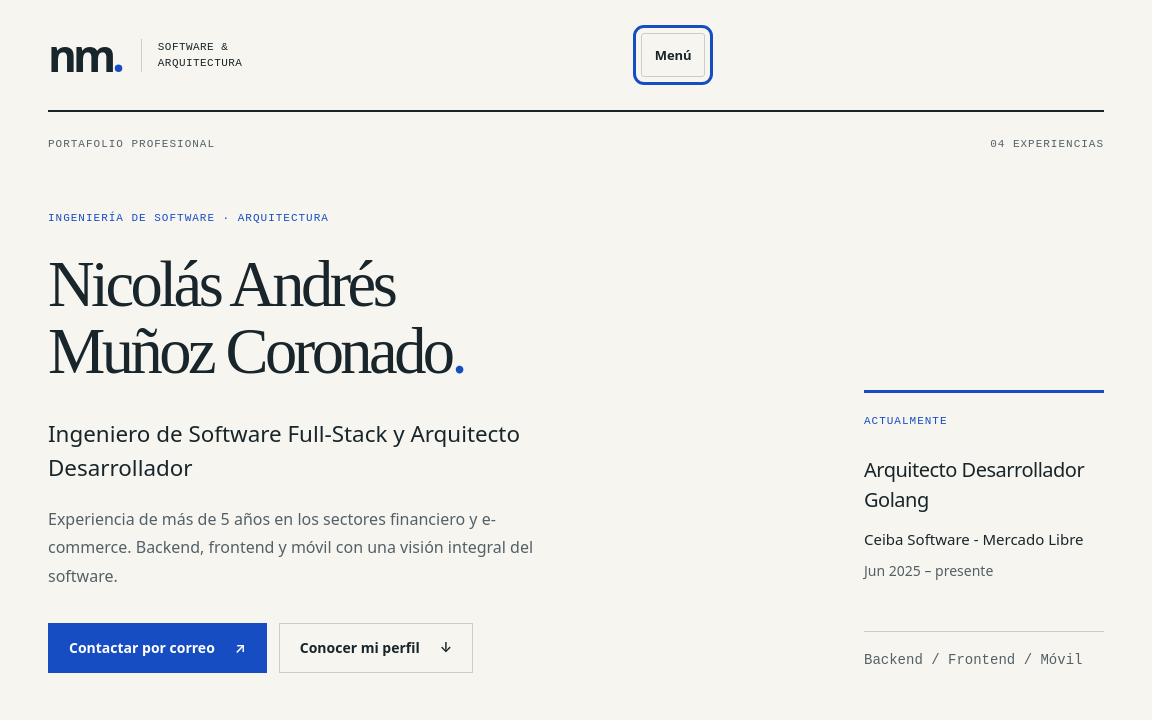
Test: Mobile navigation disclosure › collapses after hydration and toggles all links without losing button focus
Click the button "Menú" at (673, 55), box top-left (641, 33), bottom-right (705, 77)
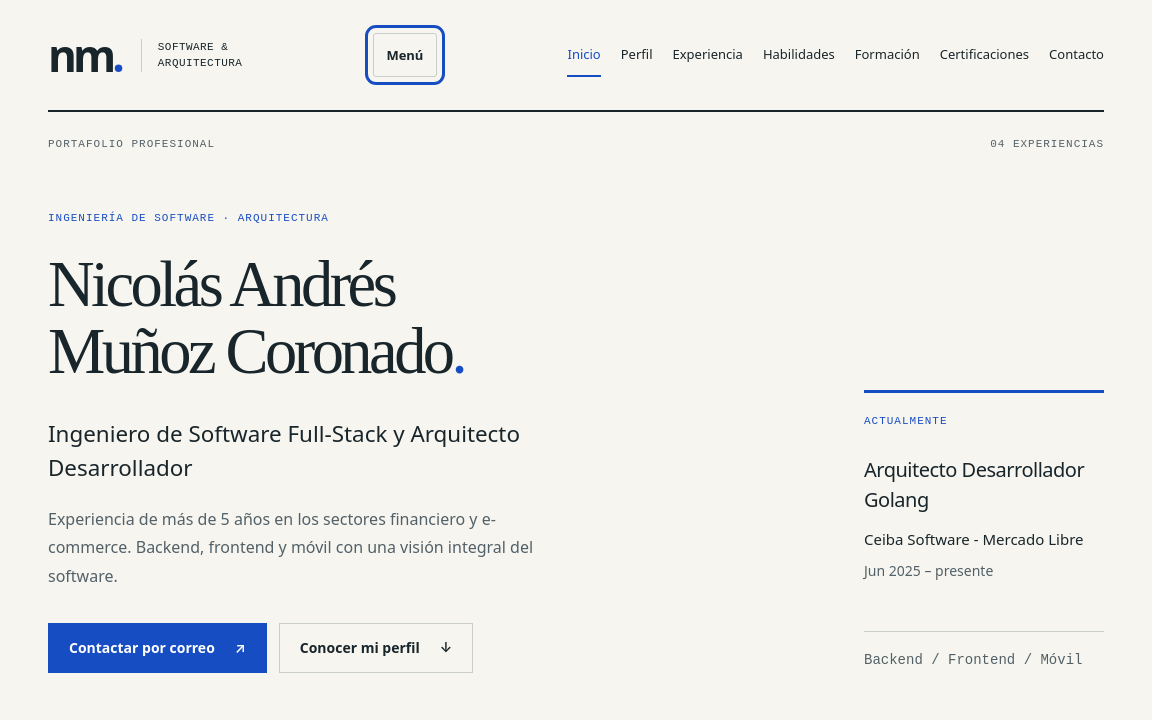
Expected: the button "Menú" is expanded
Click the button "Menú" at (405, 55), box top-left (373, 33), bottom-right (437, 77)
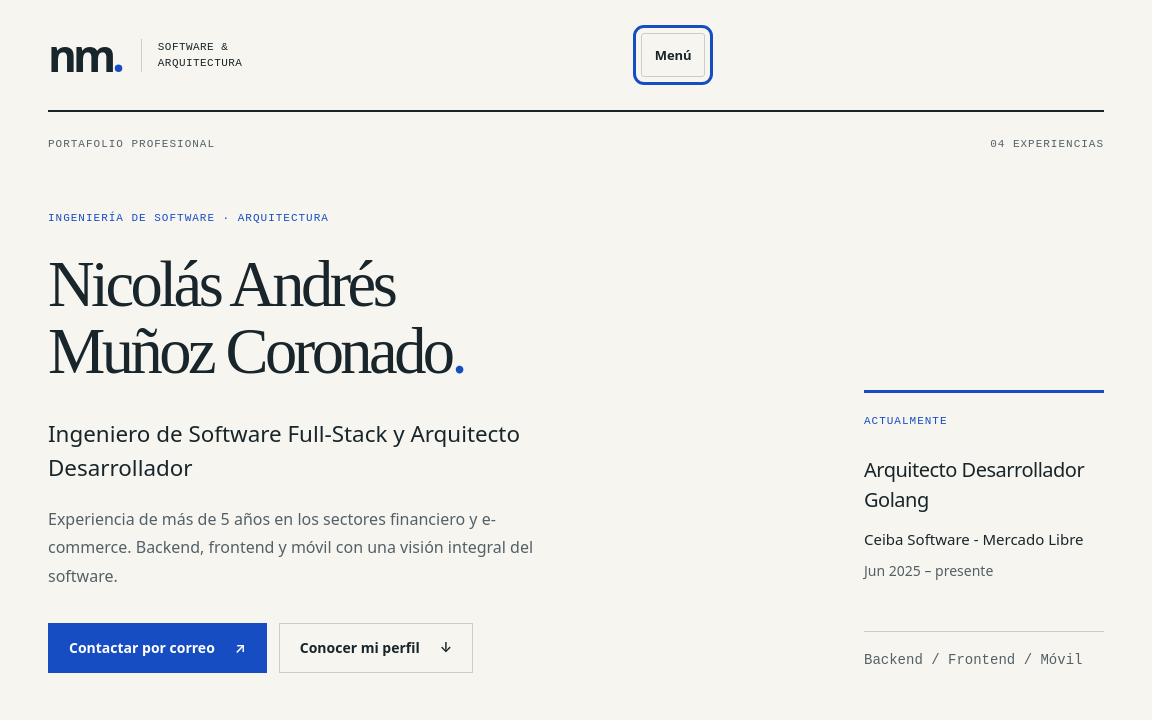
Expected: the button "Menú" is collapsed, top-left (641, 33), bottom-right (705, 77)
